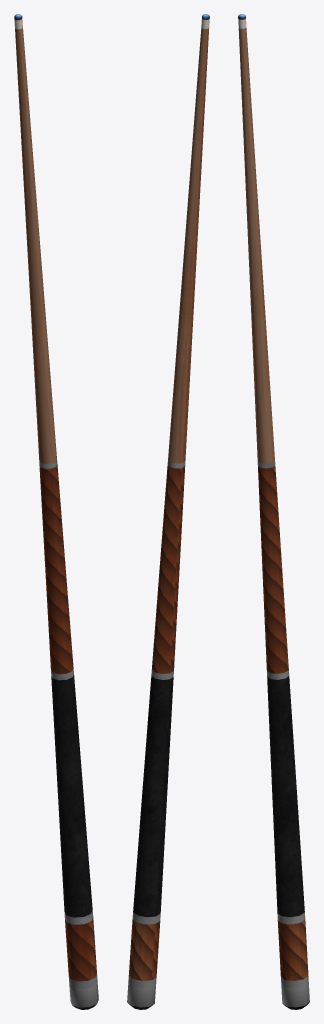
File: cueStick.glb
3 renders of one model, left to right at view 1: azimuth 30°, elevation 25°; view 2: azimuth 210°, elevation 25°; view 3: azimuth 330°, elevation 25°, orthographic. The views are drawn at different scales.
Parts seen in each view (by area): view 1: pool_cue001; view 2: pool_cue001; view 3: pool_cue001.
Part boxes in pixels (x1,y1,x2,y2): pool_cue001: (14, 14, 98, 1009); pool_cue001: (127, 14, 209, 1009); pool_cue001: (238, 14, 309, 1009).
Bounding box in the file's own units: 0.1174 × 1.47 × 0.0391.
1 material, 1 textured.
